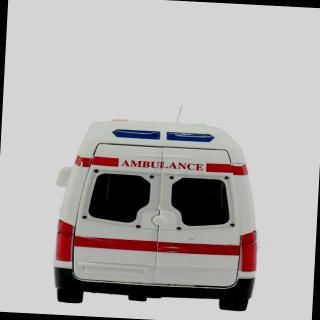Ambulance: (28, 98, 288, 320)
